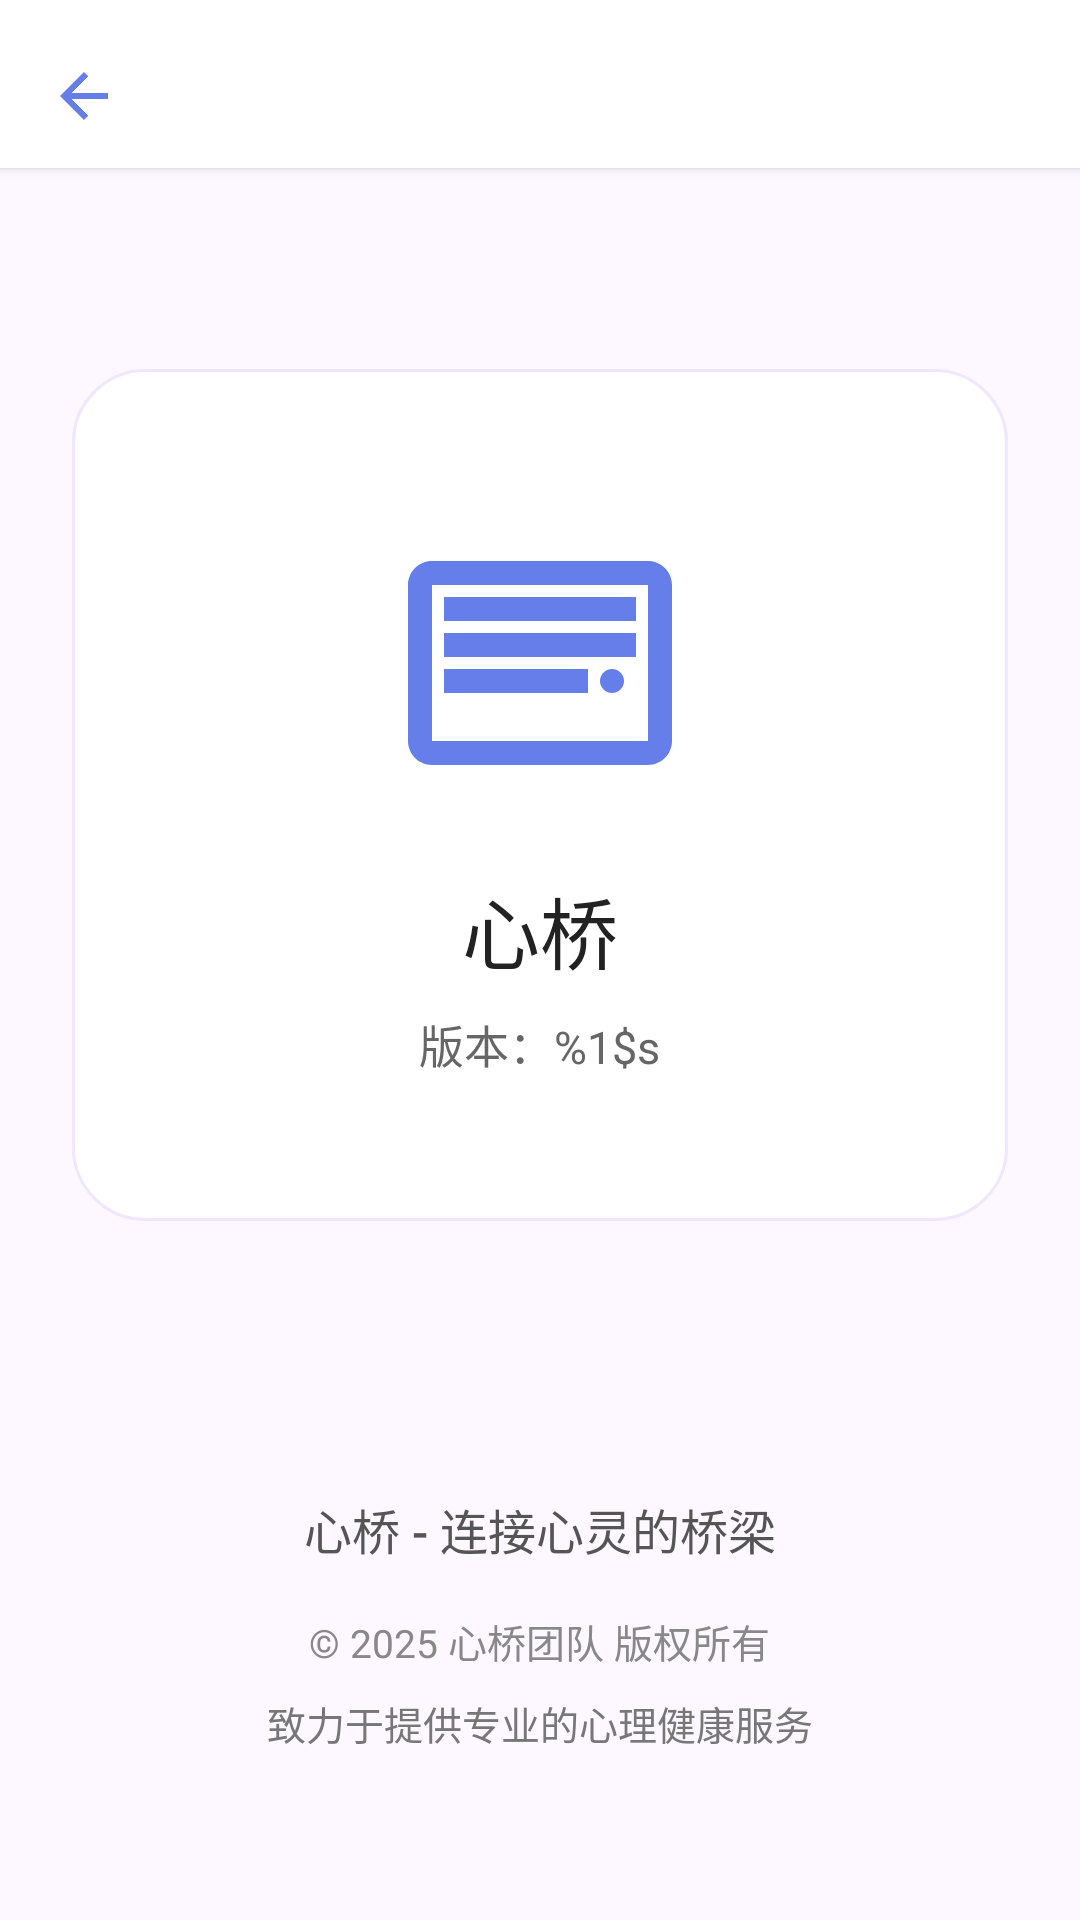

Screen size 1080w x 1920h. Icon name, then its box in pixels as bbox=[x1, y1, x2, y2]:
返回: bbox=[60, 72, 108, 120]
